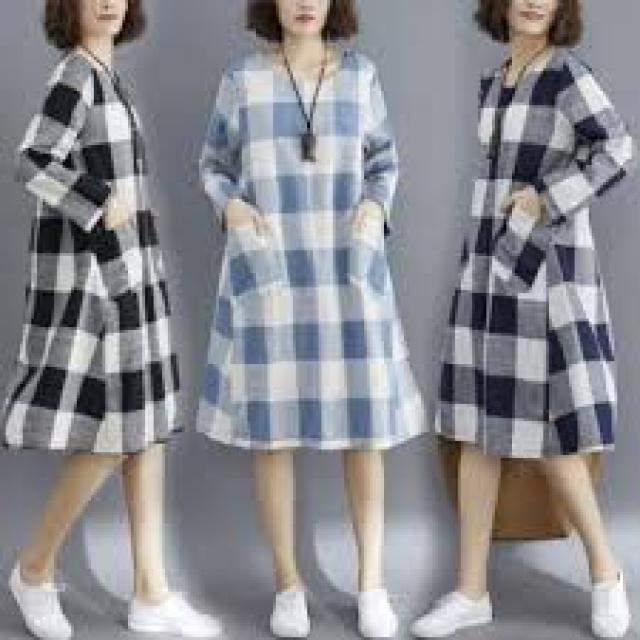plaid: (200, 48, 427, 463), (446, 55, 630, 463), (18, 52, 182, 450)
